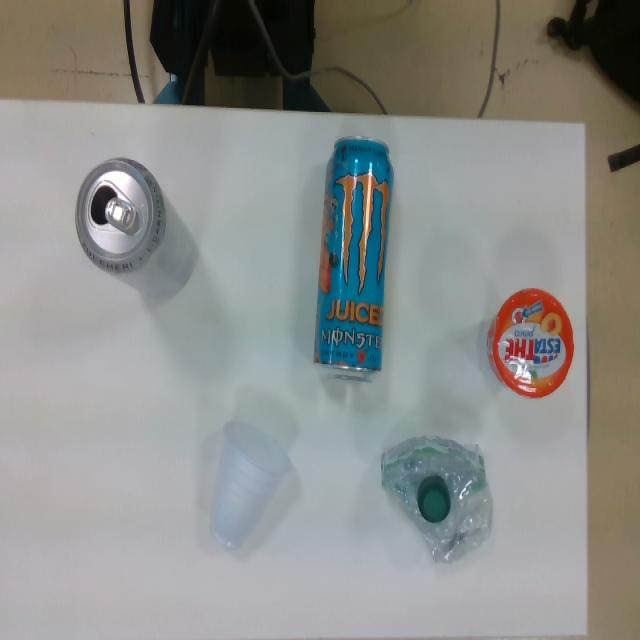aluminum: (310, 131, 398, 391), (72, 154, 166, 276)
plastic: (374, 431, 497, 569), (203, 414, 294, 553), (485, 284, 576, 400)
